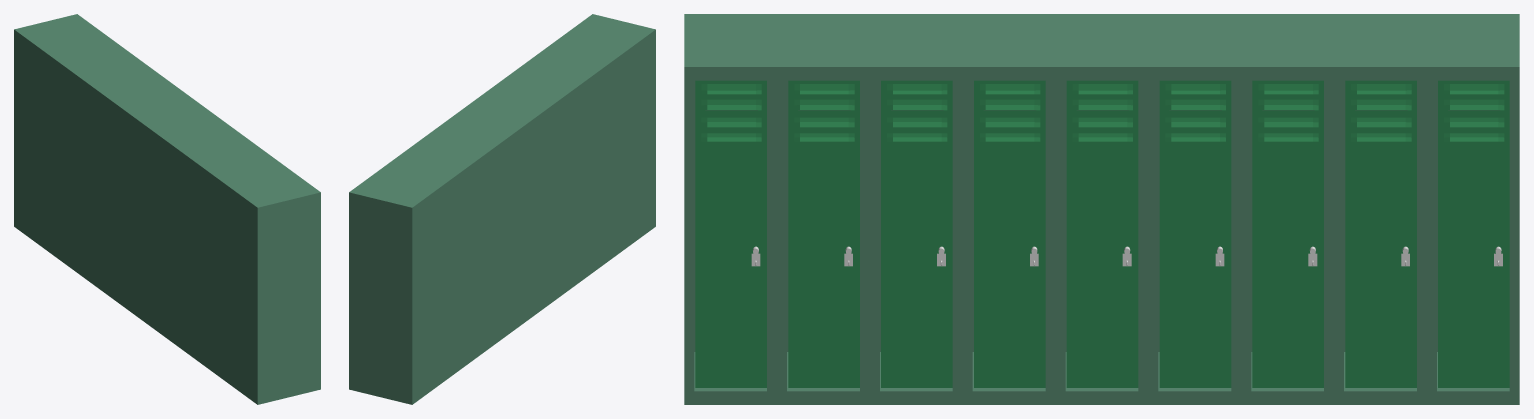
File: lockers.fbx
The picture shows the model from 3 angles, left to right: view 1: azimuth 30°, elevation 25°; view 2: azimuth 150°, elevation 25°; view 3: azimuth 270°, elevation 25°; orthographic projection. The views are drawn at different scales.
Parts seen in each view (by area): view 1: lockers; view 2: lockers; view 3: lockers.
Boxes of the visible parts, x1=… form: lockers: x1=14, y1=14, x2=320, y2=404; lockers: x1=349, y1=14, x2=655, y2=404; lockers: x1=684, y1=14, x2=1519, y2=404.
Bounding box in the file's own units: 358 × 1028 × 2303.
